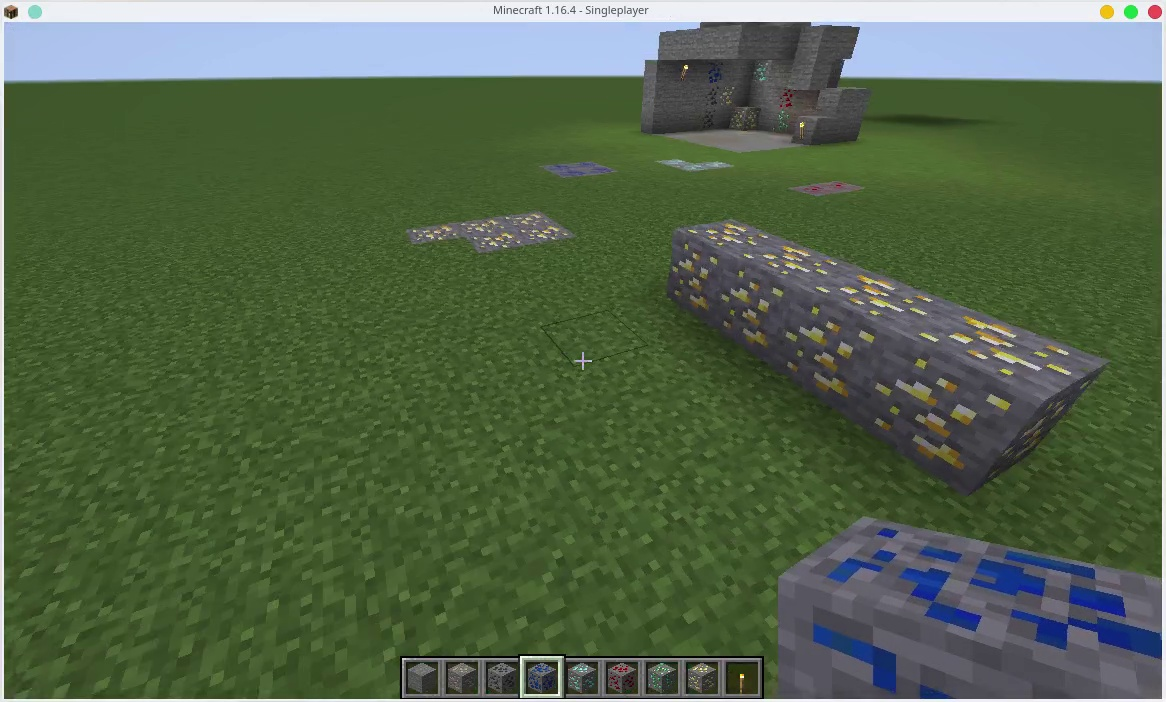gold: (893, 339, 1084, 470), (803, 287, 894, 404), (676, 219, 740, 328), (748, 255, 815, 344), (480, 237, 523, 261), (688, 664, 719, 695), (408, 221, 458, 240), (527, 226, 568, 248), (733, 107, 760, 133), (512, 210, 555, 225), (468, 222, 504, 234), (718, 80, 733, 107)
